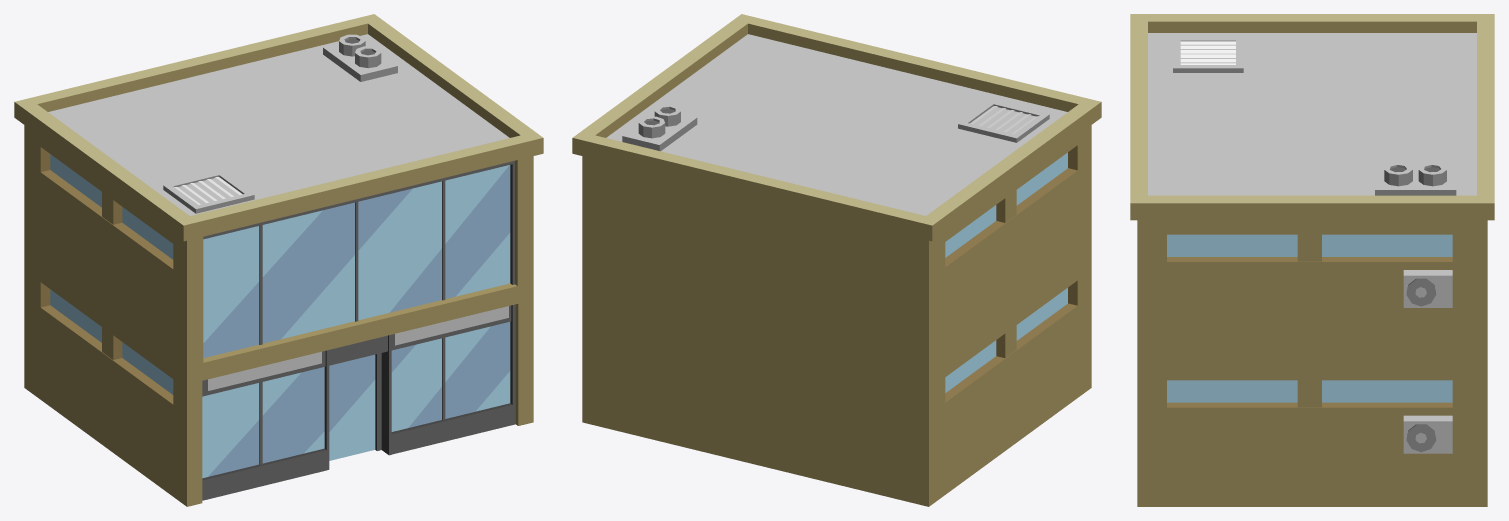
File: supermarket_009.fbx
3 views of the same model, side by side, from view 1: azimuth 30°, elevation 25°; view 2: azimuth 150°, elevation 25°; view 3: azimuth 270°, elevation 25° (orthographic). The views are drawn at different scales.
Parts seen in each view (by area): view 1: supermarket_009; view 2: supermarket_009; view 3: supermarket_009.
Part boxes in pixels (x1,y1,x2,y2): supermarket_009: (14, 14, 543, 506); supermarket_009: (572, 14, 1101, 506); supermarket_009: (1130, 14, 1494, 506).
Bounding box in the file's own units: 752 × 575 × 603.
